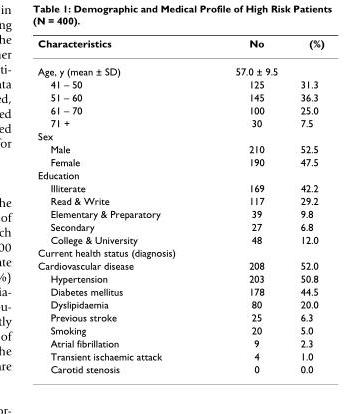table: (37, 36, 323, 374)
table column: (37, 36, 204, 374), (204, 36, 288, 374), (288, 36, 323, 374)
table column header: (37, 36, 323, 57)
table projected row header: (37, 129, 323, 142), (37, 168, 323, 181), (37, 245, 323, 258)
table row: (37, 36, 323, 57), (37, 57, 323, 77), (37, 77, 323, 90), (37, 90, 323, 103), (37, 103, 323, 116), (37, 116, 323, 129), (37, 129, 323, 142), (37, 142, 323, 155), (37, 155, 323, 168), (37, 168, 323, 181), (37, 181, 323, 194), (37, 206, 323, 219), (37, 219, 323, 232), (37, 232, 323, 245), (37, 245, 323, 258), (37, 258, 323, 271), (37, 271, 323, 284), (37, 284, 323, 297), (37, 297, 323, 310), (37, 310, 323, 323), (37, 323, 323, 336), (37, 336, 323, 349), (37, 349, 323, 362), (37, 194, 323, 206), (37, 362, 323, 374)
